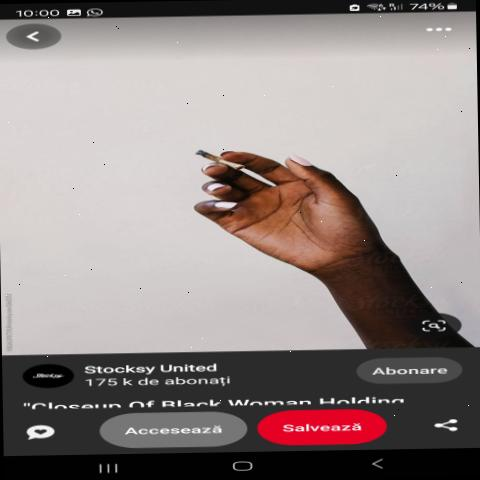hands: (148, 90, 416, 316)
